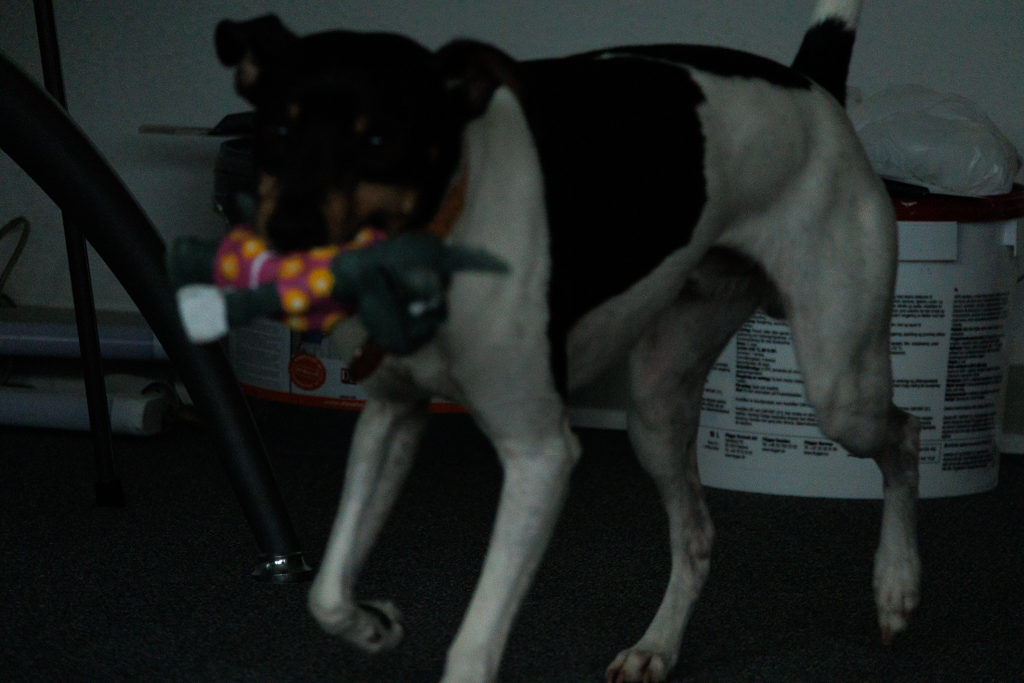Dog: (198, 0, 940, 683)
Humanoid: (166, 181, 524, 385)
